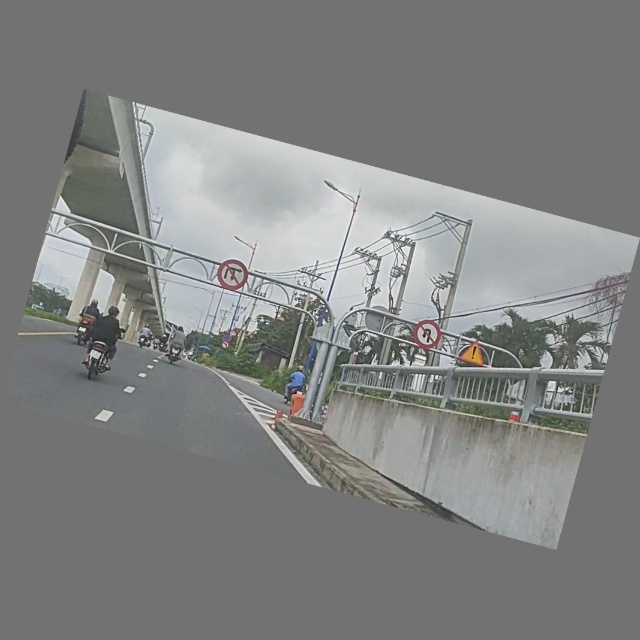P.123a: (221, 341, 231, 351)
P.124a*: (409, 317, 444, 352)
P.124d: (213, 256, 253, 296)
P.130: (221, 332, 233, 343)
W.233: (459, 338, 490, 368)
